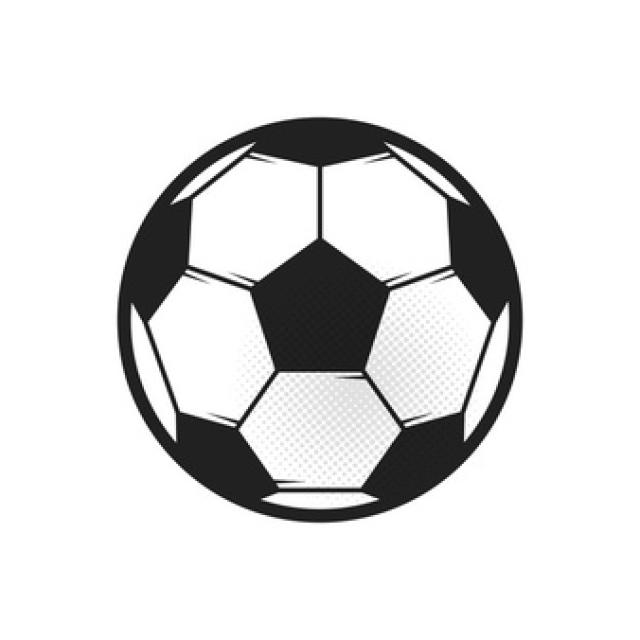soccer ball: (119, 119, 523, 521)
